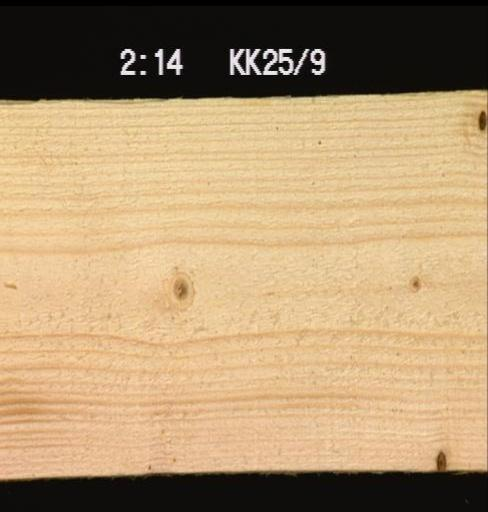dry_knot: (472, 102, 486, 131)
edge_knot: (432, 444, 447, 468)
small_knot: (405, 271, 423, 294)
sound_knot: (163, 267, 194, 305)
wave: (0, 96, 191, 106)
